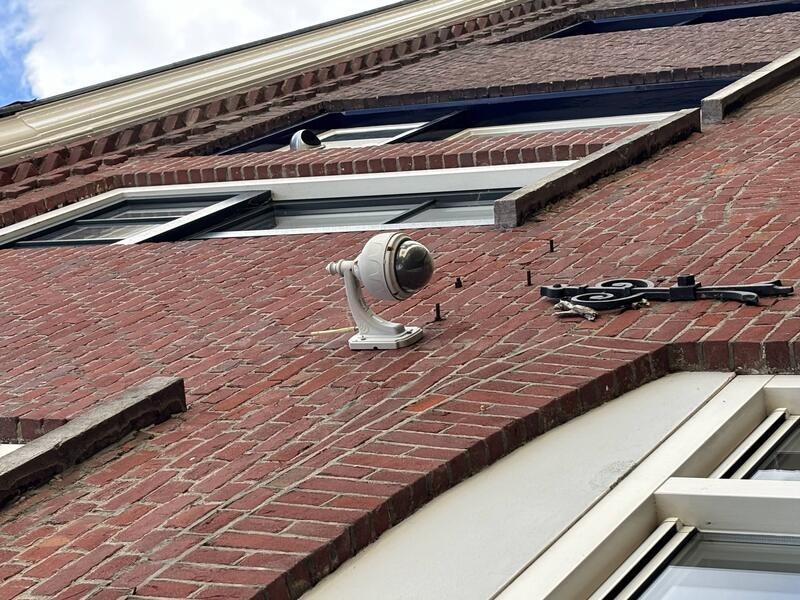dome: (291, 360, 369, 436)
